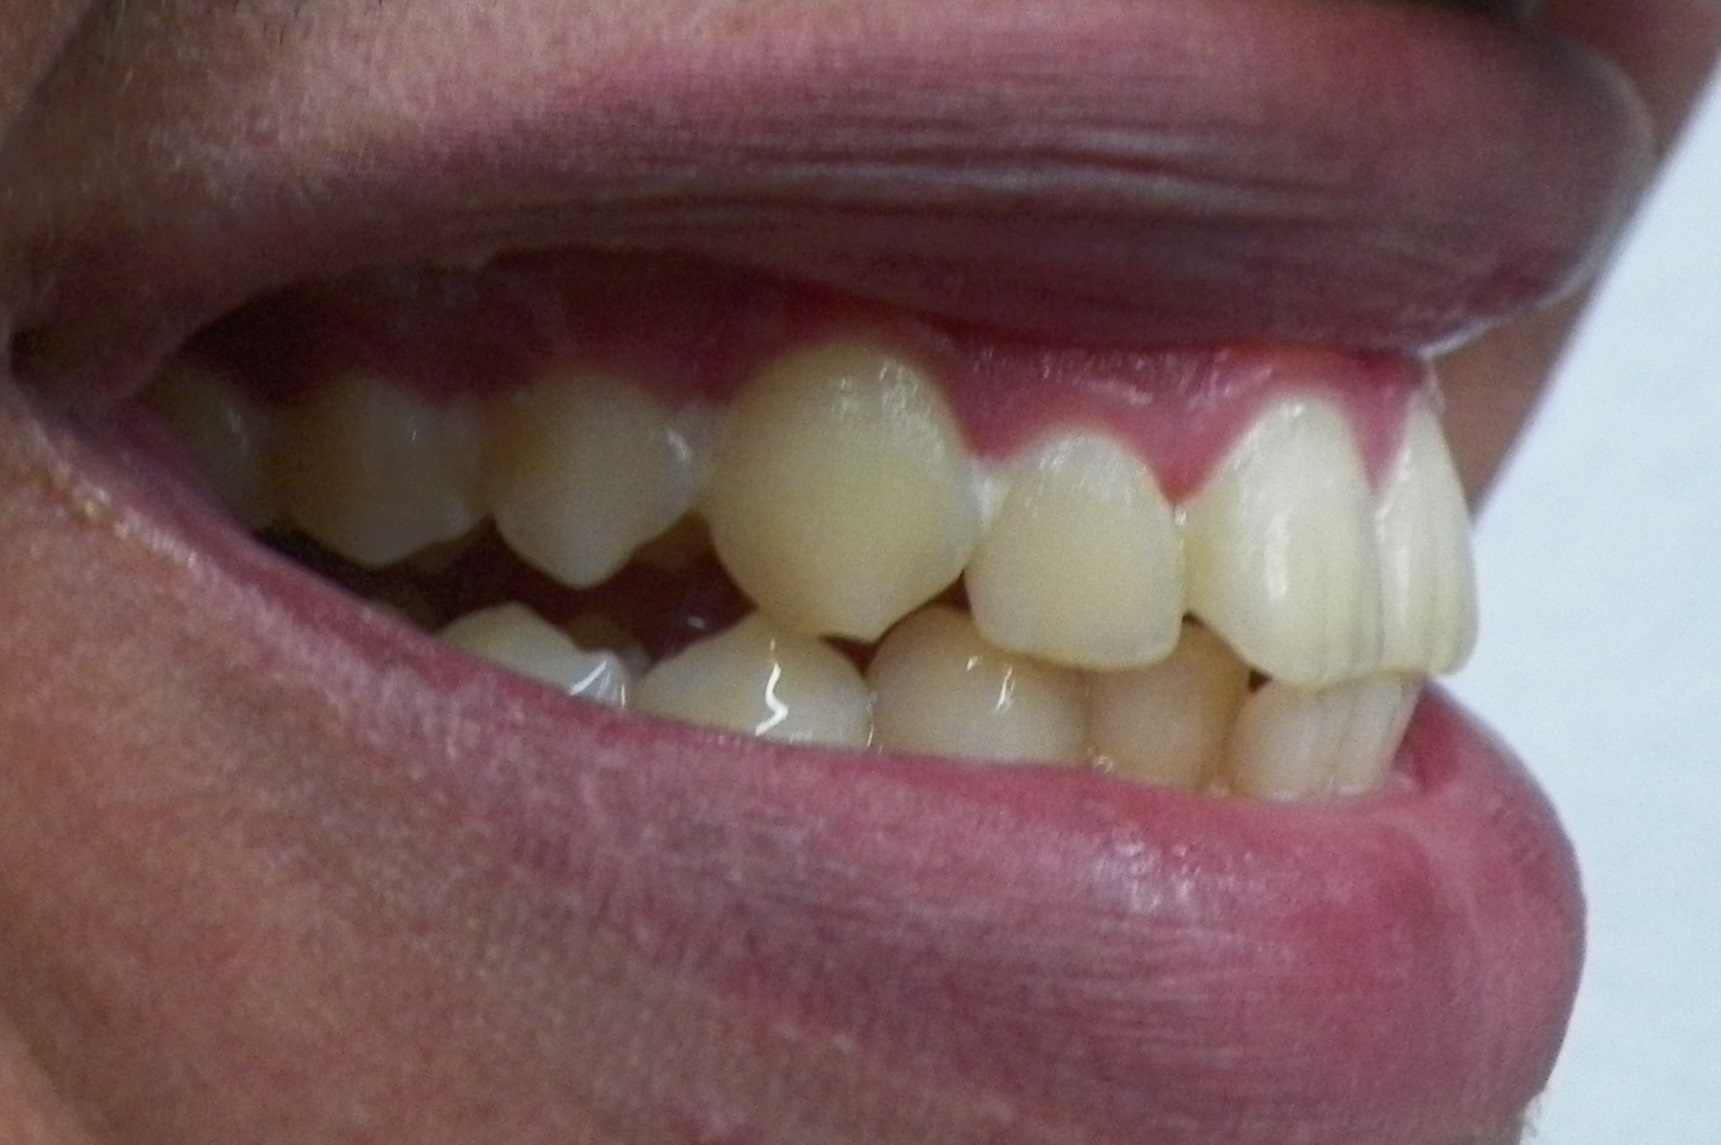boca: (222, 349, 1509, 787)
